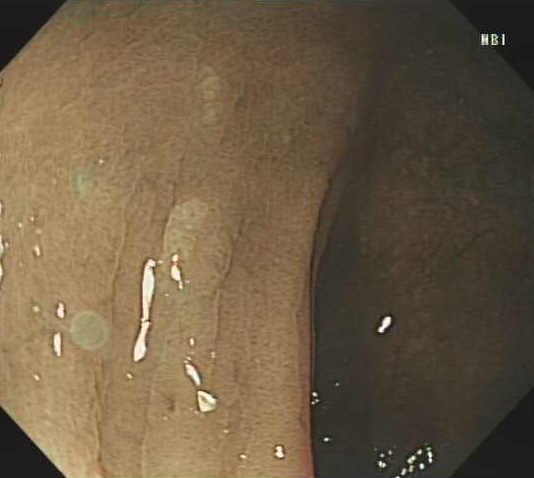others: (161, 196, 211, 265)
